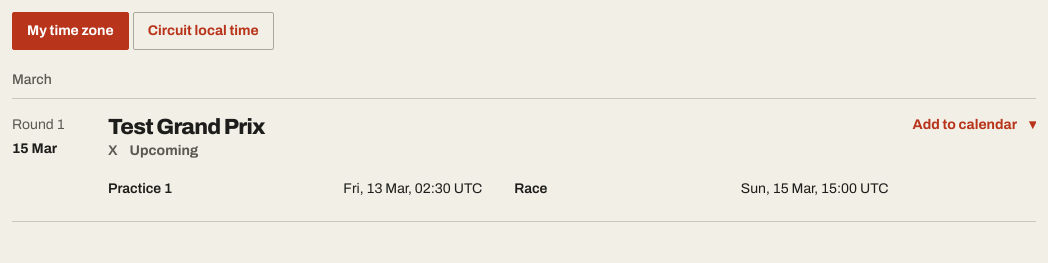
Test: CalendarView › falls back to the viewer zone when the circuit zone is unknown
The width and height of the screenshot is (1048, 263).
Click the button "Circuit local time": x=203, y=31 [133,12,274,50]
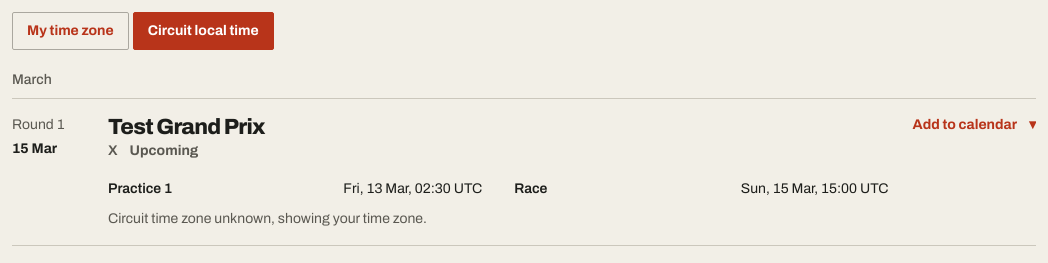
Result: the text "Circuit time zone unknown, showing your time zone." is shown at [108,211,427,226]
